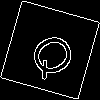Q: (25, 25, 86, 83)
